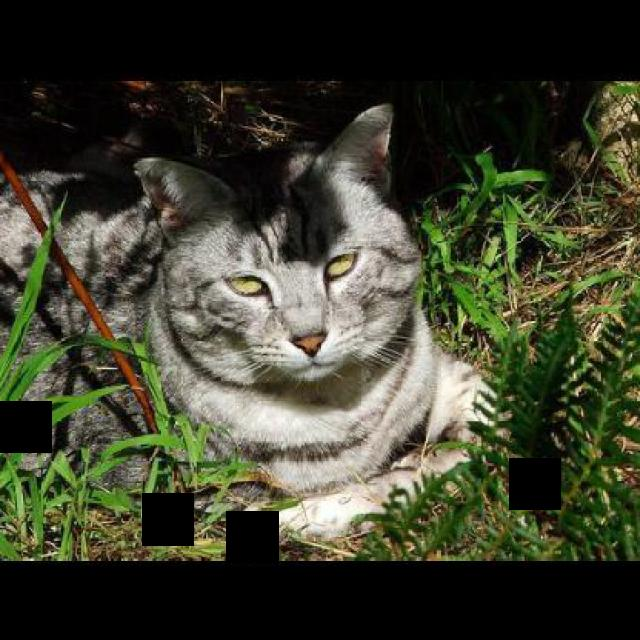unauthorized: (0, 100, 506, 543)
